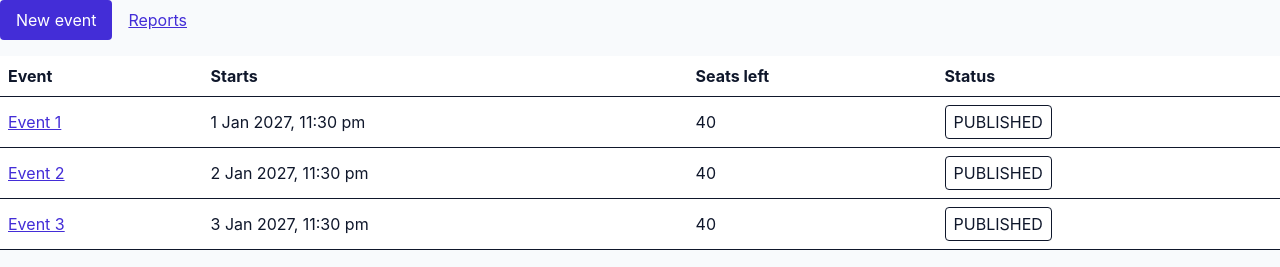
Test case: AdminEventList › flips the status before the server answers (optimistic update)
Click the button with aria-label "Unpublish Event 1" at (998, 122), box [945,105,1052,139]
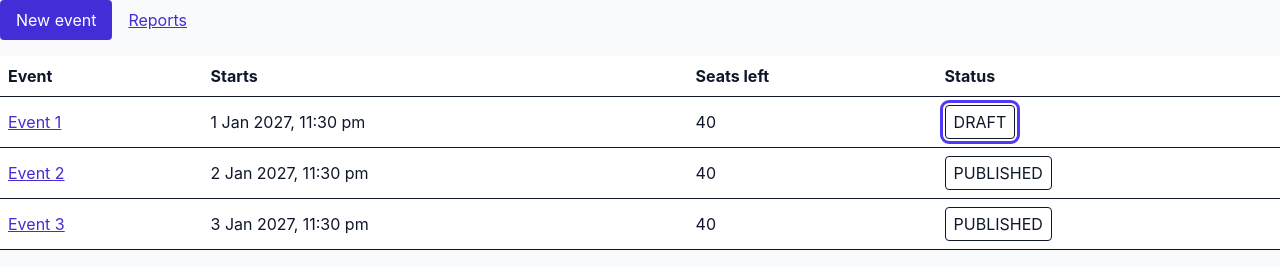
Expected: the button with aria-label "Publish Event 1" reads "DRAFT", [945,105,1015,139]
